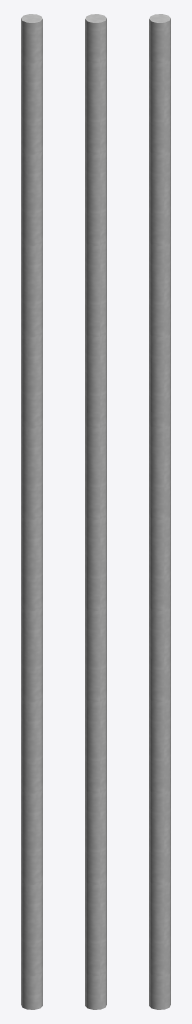
The model's file is simple_pole.FBX.
3 views of the same model, side by side, from view 1: azimuth 30°, elevation 25°; view 2: azimuth 150°, elevation 25°; view 3: azimuth 330°, elevation 25° (orthographic).
Visible parts, largest first — view 1: Cylinder001; view 2: Cylinder001; view 3: Cylinder001.
Part boxes in pixels (box(x1,y1,x2,y2)): Cylinder001: box(21, 14, 42, 1009); Cylinder001: box(85, 14, 106, 1009); Cylinder001: box(149, 14, 170, 1009).
Size of the model in its own units: 0.12 by 5.95 by 0.1141.
1 material, 1 textured.
